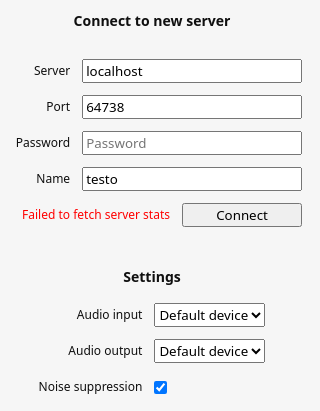
Test: App › stays on the login page and shows the error when connecting fails
What coordinates should you click on to do the following:
click the button "Connect"
I would click on:
 (242, 215)
Its box is [182,203,302,227].
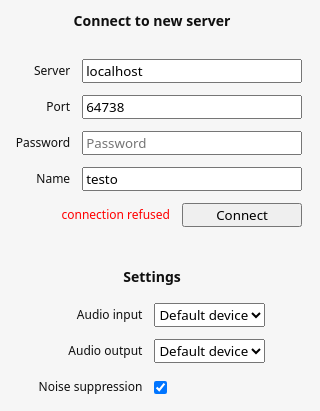
Now the text "connection refused" is shown, box [62,203,170,227]
